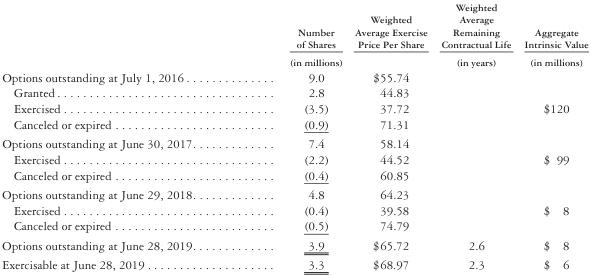table: (1, 1, 587, 271)
table column: (1, 1, 242, 271), (242, 1, 347, 271), (347, 1, 433, 271), (433, 1, 517, 271), (517, 1, 587, 271)
table column header: (1, 1, 587, 68)
table row: (1, 1, 587, 68), (1, 235, 587, 254), (1, 133, 587, 151), (1, 166, 587, 184), (1, 184, 587, 202), (1, 217, 587, 235), (1, 116, 587, 133), (1, 254, 587, 271), (1, 68, 587, 84), (1, 84, 587, 100), (1, 100, 587, 116), (1, 151, 587, 166), (1, 202, 587, 217)
